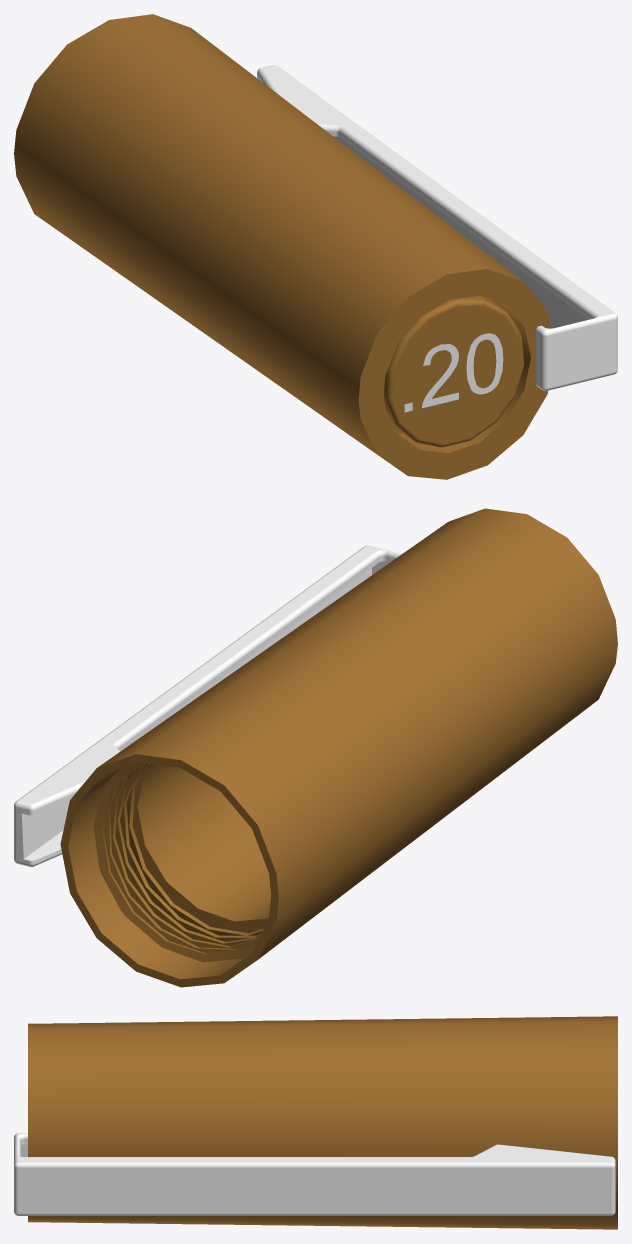
The model's file is cap.glb.
3 renders of one model, top to bottom at view 1: azimuth 30°, elevation 25°; view 2: azimuth 150°, elevation 25°; view 3: azimuth 270°, elevation 25°, orthographic. The views are drawn at different scales.
Parts seen in each view (by area): view 1: object4, object3, object2; view 2: object4; view 3: object4.
Boxes of the visible parts, x1=… form: object4: x1=14, y1=14, x2=617, y2=479; object3: x1=466, y1=333, x2=503, y2=394; object2: x1=422, y1=344, x2=458, y2=408; object4: x1=14, y1=508, x2=617, y2=987; object4: x1=14, y1=1016, x2=617, y2=1229.
Size of the model in its own units: 11.82 by 9.57 by 27.09.
